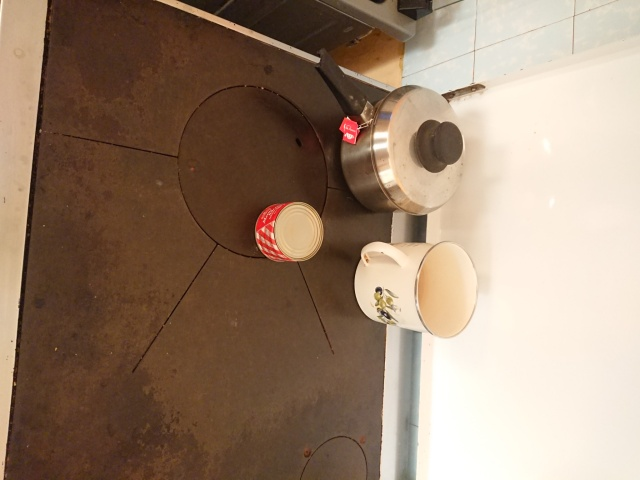Podravka Luncheon Meat 150g: (252, 200, 326, 265)
